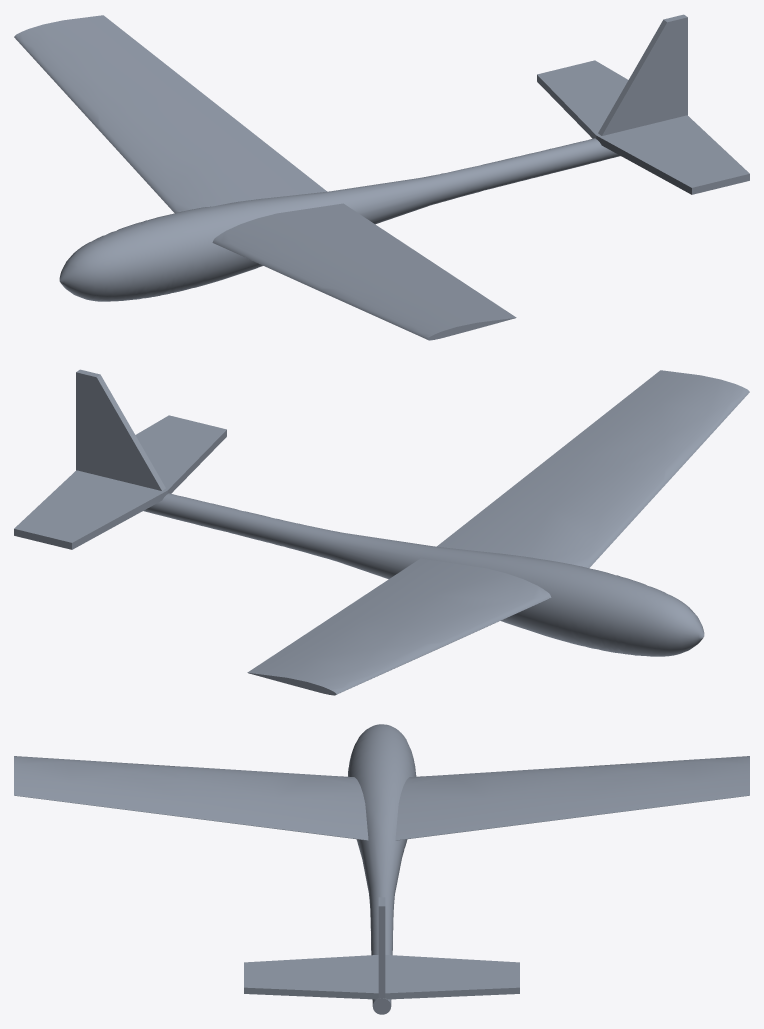
Rendered from step-4-preview-1.glb.
3 renders of one model, top to bottom at view 1: azimuth 30°, elevation 25°; view 2: azimuth 150°, elevation 25°; view 3: azimuth 270°, elevation 25°, orthographic. The views are drawn at different scales.
Parts seen in each view (by area): view 1: preview_21, preview_14, preview_20, preview_3, preview_2, preview_8, preview_0; view 2: preview_20, preview_14, preview_21, preview_3, preview_4, preview_12, preview_0; view 3: preview_20, preview_21, preview_3, preview_14, preview_6, preview_10, preview_5.
Part boxes in pixels (x1,y1,x2,y2): preview_21: [14, 15, 326, 213]; preview_14: [59, 138, 620, 301]; preview_20: [212, 203, 515, 339]; preview_3: [537, 60, 749, 187]; preview_2: [602, 17, 687, 135]; preview_8: [596, 135, 691, 194]; preview_0: [598, 19, 666, 135]; preview_20: [437, 370, 749, 568]; preview_14: [143, 493, 704, 656]; preview_21: [248, 558, 551, 694]; preview_3: [14, 415, 226, 542]; preview_4: [76, 372, 161, 490]; preview_12: [72, 490, 167, 549]; preview_0: [97, 374, 165, 490]; preview_20: [14, 756, 368, 840]; preview_21: [395, 756, 749, 840]; preview_3: [244, 955, 519, 993]; preview_14: [348, 724, 416, 1005]; preview_6: [244, 987, 379, 999]; preview_10: [384, 987, 519, 999]; preview_5: [378, 906, 385, 997].
Size of the model in its own units: 0.14 by 0.0315 by 0.16.
